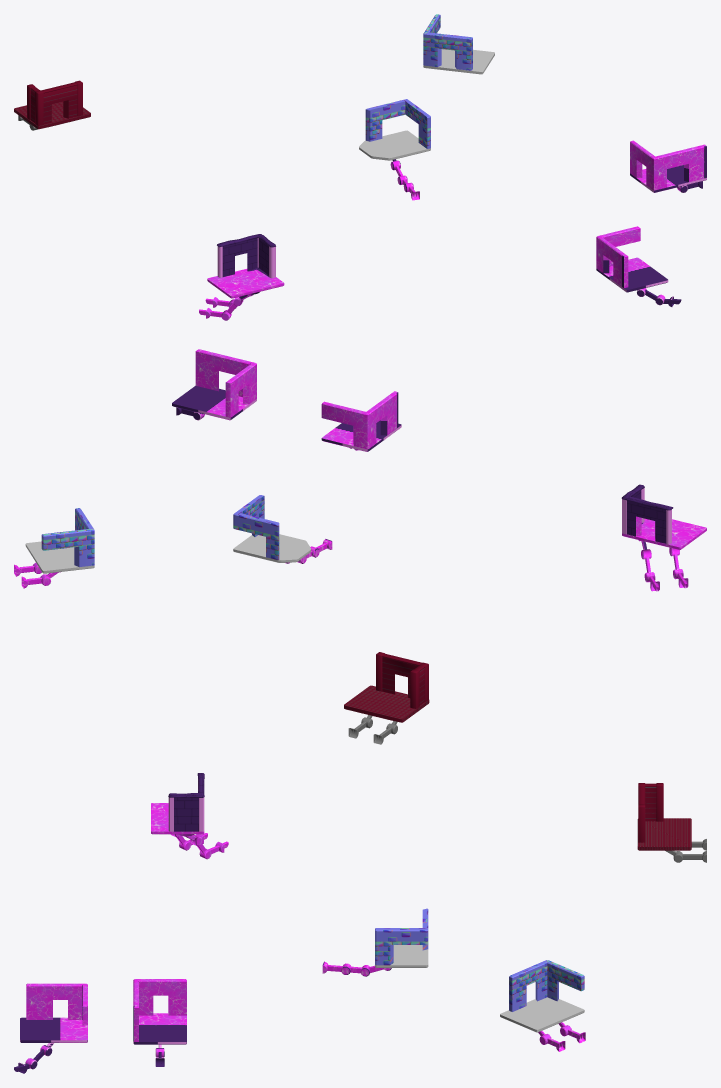
Rendered from Balkonies.fbx.
3 renders of one model, top to bottom at view 1: azimuth 30°, elevation 25°; view 2: azimuth 150°, elevation 25°; view 3: azimuth 270°, elevation 25°, orthographic. The views are drawn at different scales.
Parts seen in each view (by area): view 1: Winter_moving_platform, City_moving_platform2, Desert_moving_platform, Desert_moving_platform2, Forest_moving_platform, City_moving_platform; view 2: Forest_moving_platform, Desert_moving_platform, Winter_moving_platform, City_moving_platform, City_moving_platform2, Desert_moving_platform2; view 3: City_moving_platform, Desert_moving_platform2, Desert_moving_platform, Forest_moving_platform, Winter_moving_platform, City_moving_platform2.
Boxes of the visible parts, x1,y1,x2,y2 form: Winter_moving_platform: (199,234,284,320); City_moving_platform2: (359,99,430,200); Desert_moving_platform: (630,140,706,192); Desert_moving_platform2: (596,226,681,306); Forest_moving_platform: (14,80,90,130); City_moving_platform: (423,14,494,74); Forest_moving_platform: (344,652,429,744); Desert_moving_platform: (172,349,256,420); Winter_moving_platform: (621,484,706,591); City_moving_platform: (14,508,94,588); City_moving_platform2: (233,495,332,563); Desert_moving_platform2: (321,391,401,451); City_moving_platform: (500,960,585,1051); Desert_moving_platform2: (14,983,87,1073); Desert_moving_platform: (133,979,186,1066); Forest_moving_platform: (637,783,706,862); Winter_moving_platform: (151,773,228,859); City_moving_platform2: (322,908,428,976).
Bounding box in the file's own units: 2499 × 504 × 2845.
